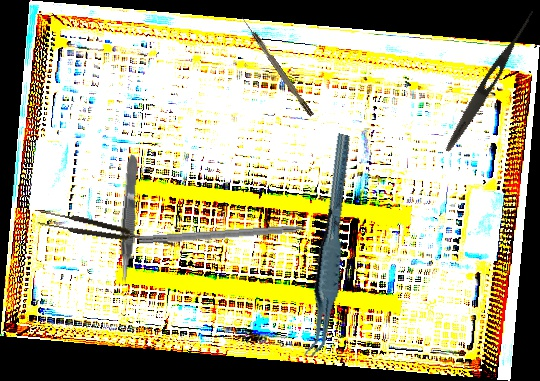Dressing Forceps: (441, 5, 539, 155)
Hook Surgical: (239, 15, 315, 118), (138, 222, 326, 247)
Tissue Forceps: (283, 132, 377, 361), (36, 208, 177, 254), (115, 154, 143, 285)
